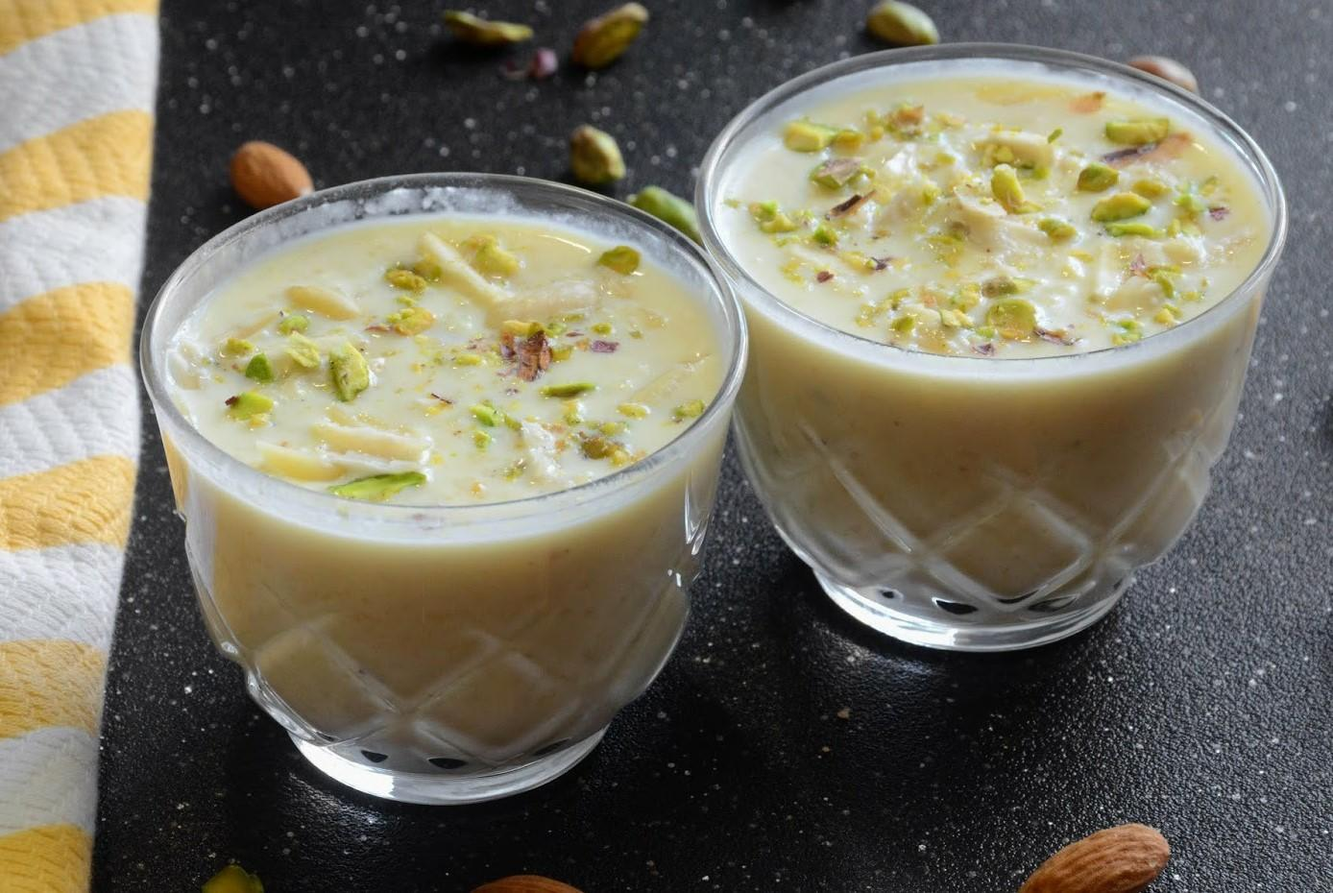Kheer: (719, 56, 1283, 618), (170, 212, 729, 768)
